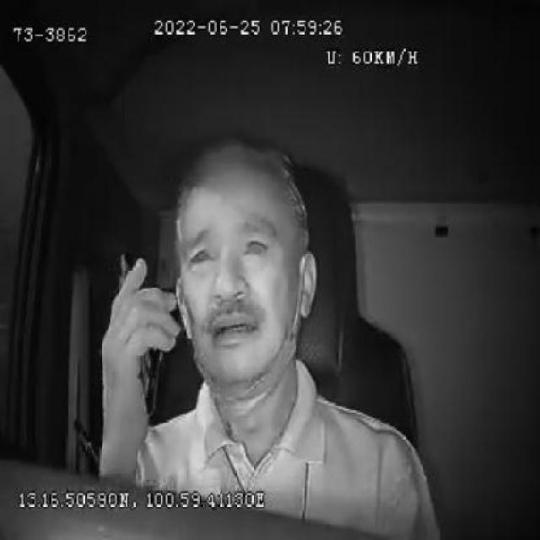phone: (116, 248, 163, 425)
